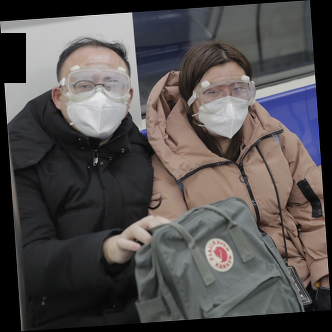with_mask: (64, 73, 129, 140), (196, 79, 252, 139)
